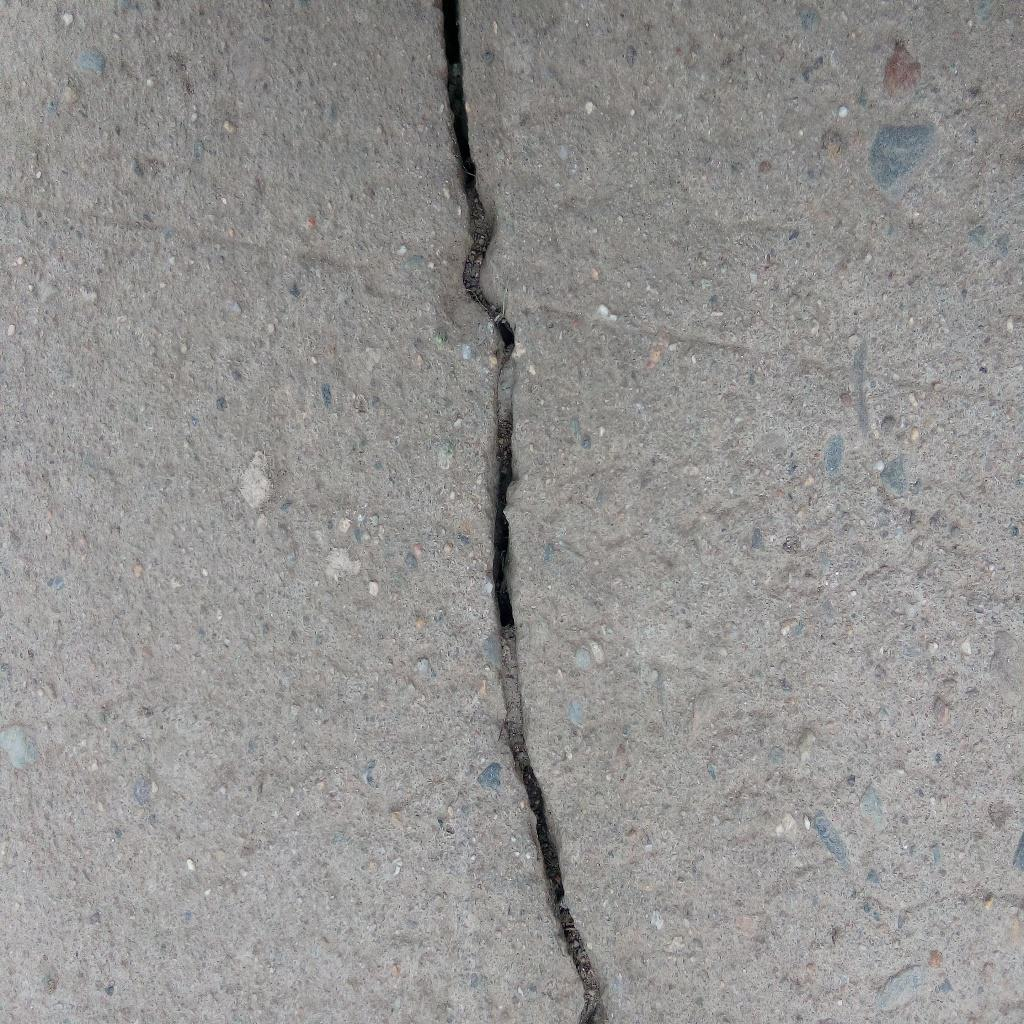Crack: (440, 1, 609, 1024)
